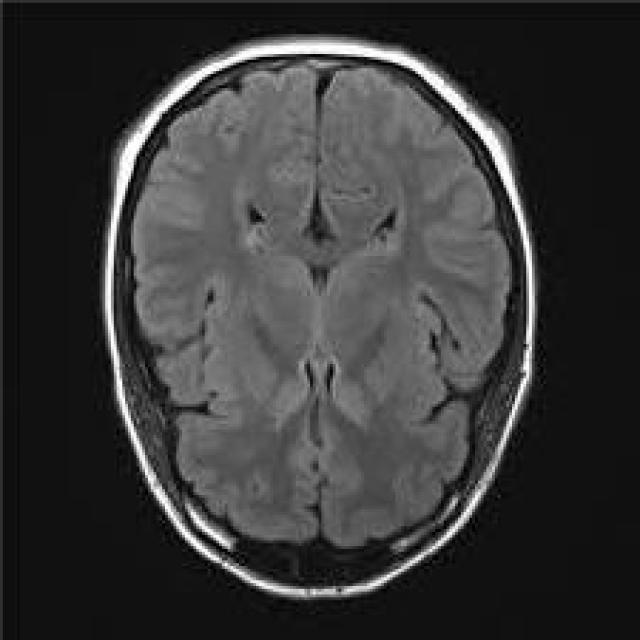notumor: (102, 37, 535, 597)
